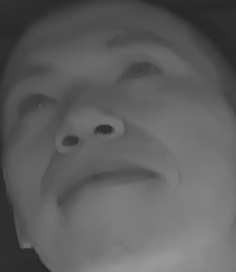eye: (113, 56, 164, 87), (10, 90, 56, 119)
mouth: (51, 155, 163, 212)
